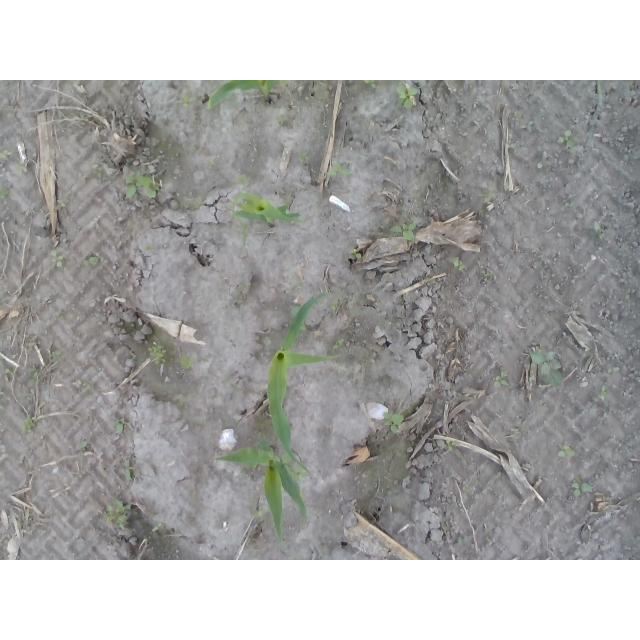Maize: (269, 290, 340, 478), (214, 436, 309, 545), (230, 190, 303, 227), (208, 81, 284, 112)
Weeds: (531, 350, 565, 385), (126, 170, 161, 199), (393, 80, 419, 112), (105, 499, 132, 529), (384, 223, 418, 242), (144, 340, 169, 364), (556, 128, 577, 154), (381, 411, 403, 433), (571, 479, 593, 497), (328, 161, 352, 177), (175, 351, 193, 369), (51, 249, 65, 271), (590, 221, 606, 240), (122, 460, 135, 481), (176, 96, 193, 112), (450, 256, 466, 273), (495, 371, 510, 388), (112, 419, 129, 434), (21, 415, 35, 433), (80, 256, 100, 268), (558, 445, 576, 458), (191, 196, 206, 210), (28, 368, 40, 385), (231, 175, 249, 186), (254, 504, 267, 519), (560, 199, 577, 209), (623, 287, 635, 301), (443, 439, 457, 450), (275, 115, 289, 126), (0, 185, 10, 200), (1, 149, 16, 159), (359, 80, 377, 88), (48, 352, 64, 361), (57, 198, 71, 208), (297, 152, 311, 162), (351, 246, 361, 259), (152, 523, 165, 533), (480, 270, 496, 278), (16, 162, 25, 176), (4, 368, 13, 382), (600, 384, 608, 398), (206, 159, 216, 170), (334, 335, 344, 346), (143, 244, 155, 253), (93, 167, 103, 177), (79, 440, 90, 449), (608, 368, 621, 375), (455, 536, 465, 545), (462, 481, 470, 492), (331, 301, 338, 311)
